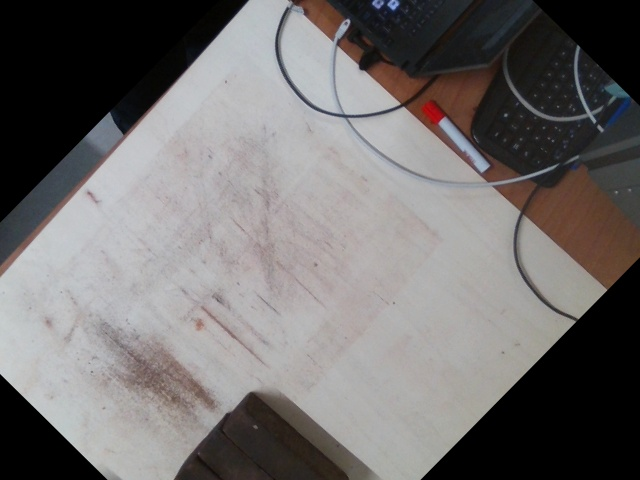brick-side: (223, 410, 349, 479), (197, 431, 323, 479), (175, 459, 301, 479)
